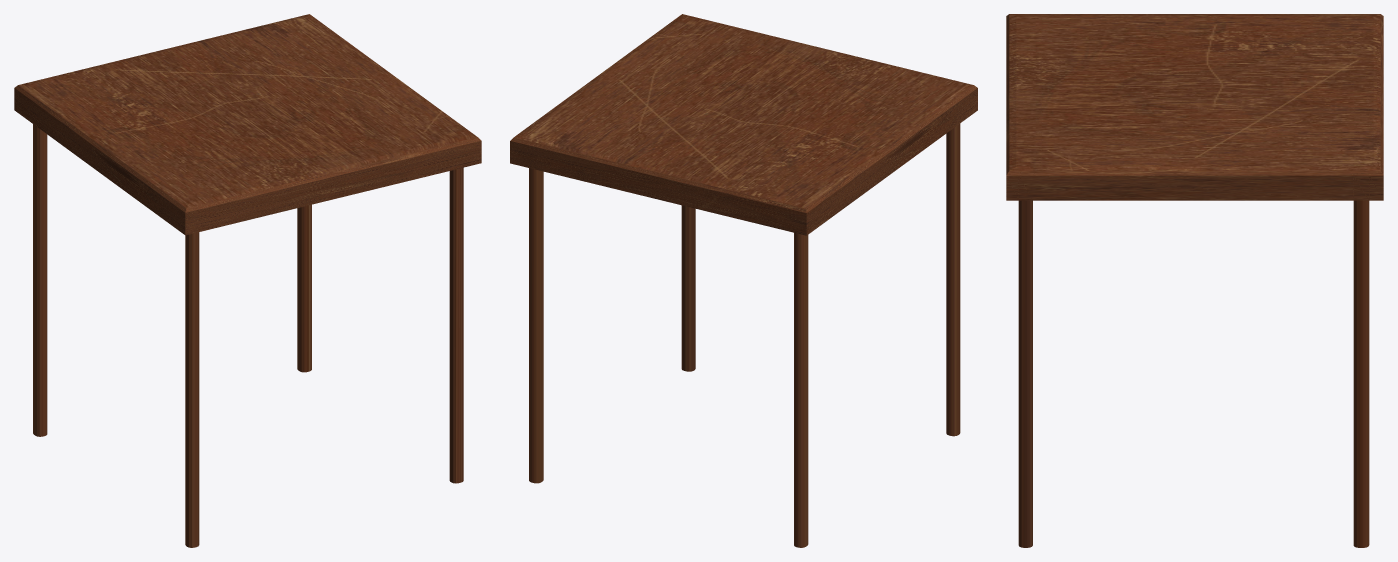
File: SmallTable.fbx
3 views of the same model, side by side, from view 1: azimuth 30°, elevation 25°; view 2: azimuth 150°, elevation 25°; view 3: azimuth 270°, elevation 25° (orthographic). The views are drawn at different scales.
Visible parts, largest first — view 1: Cube; view 2: Cube; view 3: Cube.
Part boxes in pixels (<box>): Cube: <box>14,14,481,547</box>; Cube: <box>510,14,977,547</box>; Cube: <box>1006,14,1383,547</box>.
Bounding box in the file's own units: 378 × 423 × 378.
